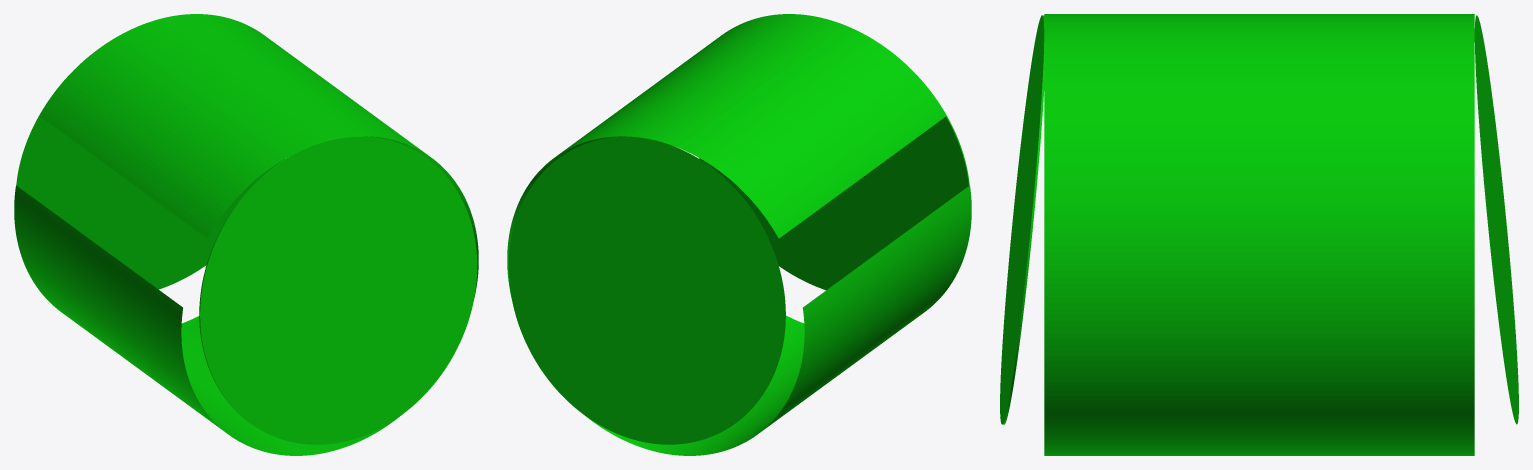
File: plane bend84.obj
3 renders of one model, left to right at view 1: azimuth 30°, elevation 25°; view 2: azimuth 150°, elevation 25°; view 3: azimuth 270°, elevation 25°, orthographic. The views are drawn at different scales.
Parts seen in each view (by area): view 1: Circle, Plane, Circle.001; view 2: Circle.001, Plane, Circle; view 3: Plane, Circle, Circle.001.
Boxes of the visible parts, x1,y1,x2,y2 form: Circle: [199, 136, 477, 444]; Plane: [14, 14, 478, 455]; Circle.001: [16, 29, 284, 289]; Circle.001: [508, 137, 785, 444]; Plane: [507, 14, 971, 455]; Circle: [699, 29, 969, 290]; Plane: [1044, 14, 1474, 455]; Circle: [1000, 15, 1044, 424]; Circle.001: [1474, 15, 1518, 424].
Bounding box in the file's own units: 2.05 × 2.05 × 2.41.
